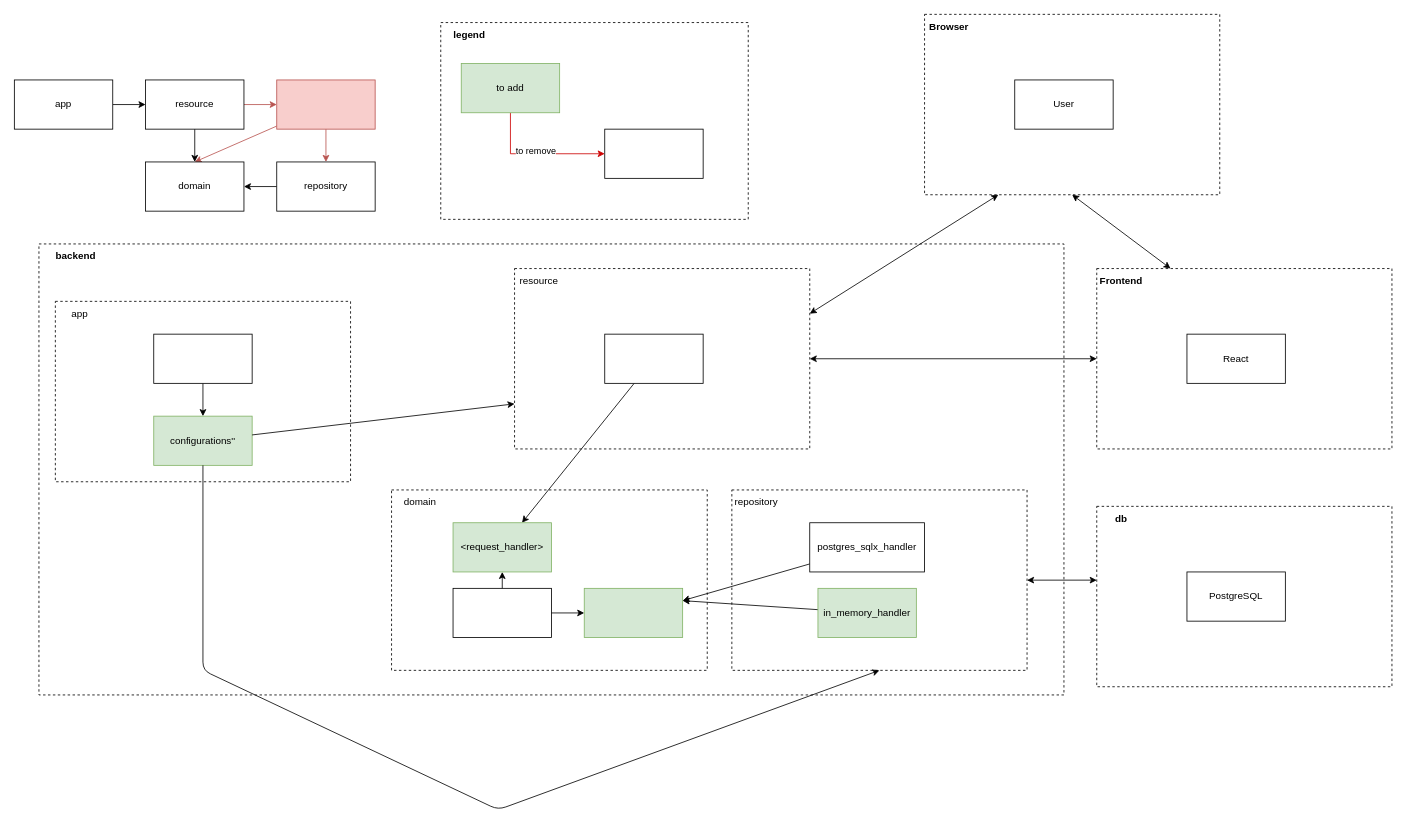
The diagram is 1406 pixels wide and 831 high, and some of its shapes have lost their labels. Each missing label, with the centre of its shape:
<storage_handler>: (633,613)
main: (202,358)
places, items, inventory, users: (501,613)
service: (325,104)
to keep or rename: (653,153)
tokio_handlers, axum: (653,358)
